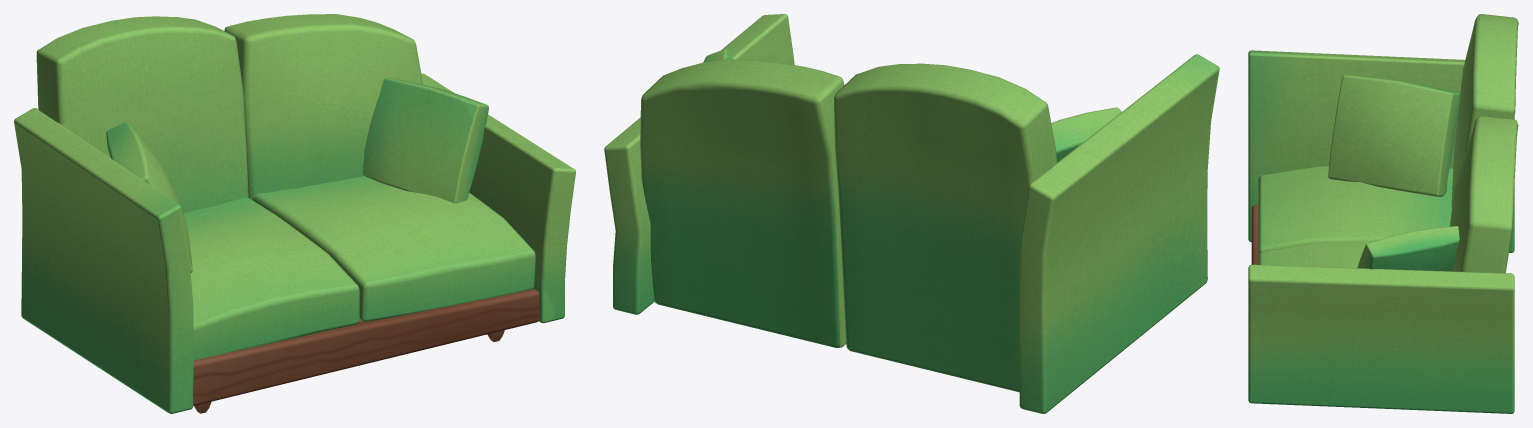
The model's file is PVB export sofa 01.fbx.
3 views of the same model, side by side, from view 1: azimuth 30°, elevation 25°; view 2: azimuth 150°, elevation 25°; view 3: azimuth 270°, elevation 25° (orthographic). The views are drawn at different scales.
Visible parts, largest first — view 1: leuning_links, rugkussen_links, rugkussen_rechts, zitkussen_rechts, zitkussen_links, base, kussen_rechts, leuning_rechts, kussen_links; view 2: rugkussen_links, rugkussen_rechts, leuning_links, leuning_rechts, kussen_links; view 3: leuning_rechts, leuning_links, kussen_links, zitkussen_links, rugkussen_rechts, rugkussen_links, kussen_rechts, zitkussen_rechts, base.
Boxes of the visible parts, x1,y1,x2,y2 form: leuning_links: (14, 108, 193, 413); rugkussen_links: (36, 16, 248, 213); rugkussen_rechts: (224, 14, 422, 199); zitkussen_rechts: (252, 176, 535, 321); zitkussen_links: (183, 197, 359, 360); base: (193, 288, 539, 405); kussen_rechts: (362, 77, 488, 203); leuning_rechts: (421, 73, 575, 323); kussen_links: (106, 122, 192, 272); rugkussen_links: (834, 63, 1057, 392); rugkussen_rechts: (640, 59, 846, 347); leuning_links: (1018, 54, 1219, 413); leuning_rechts: (604, 14, 794, 314); kussen_links: (1051, 107, 1121, 162); leuning_rechts: (1248, 264, 1514, 413); leuning_links: (1248, 50, 1514, 252); kussen_links: (1328, 74, 1459, 196); zitkussen_links: (1258, 166, 1453, 255); rugkussen_rechts: (1449, 115, 1518, 273); rugkussen_links: (1451, 14, 1518, 206); kussen_rechts: (1357, 226, 1459, 271); zitkussen_rechts: (1258, 242, 1371, 268); base: (1251, 205, 1258, 264).
Bounding box in the file's own units: 38.06 × 25.21 × 24.03.
1 material, 1 textured.
